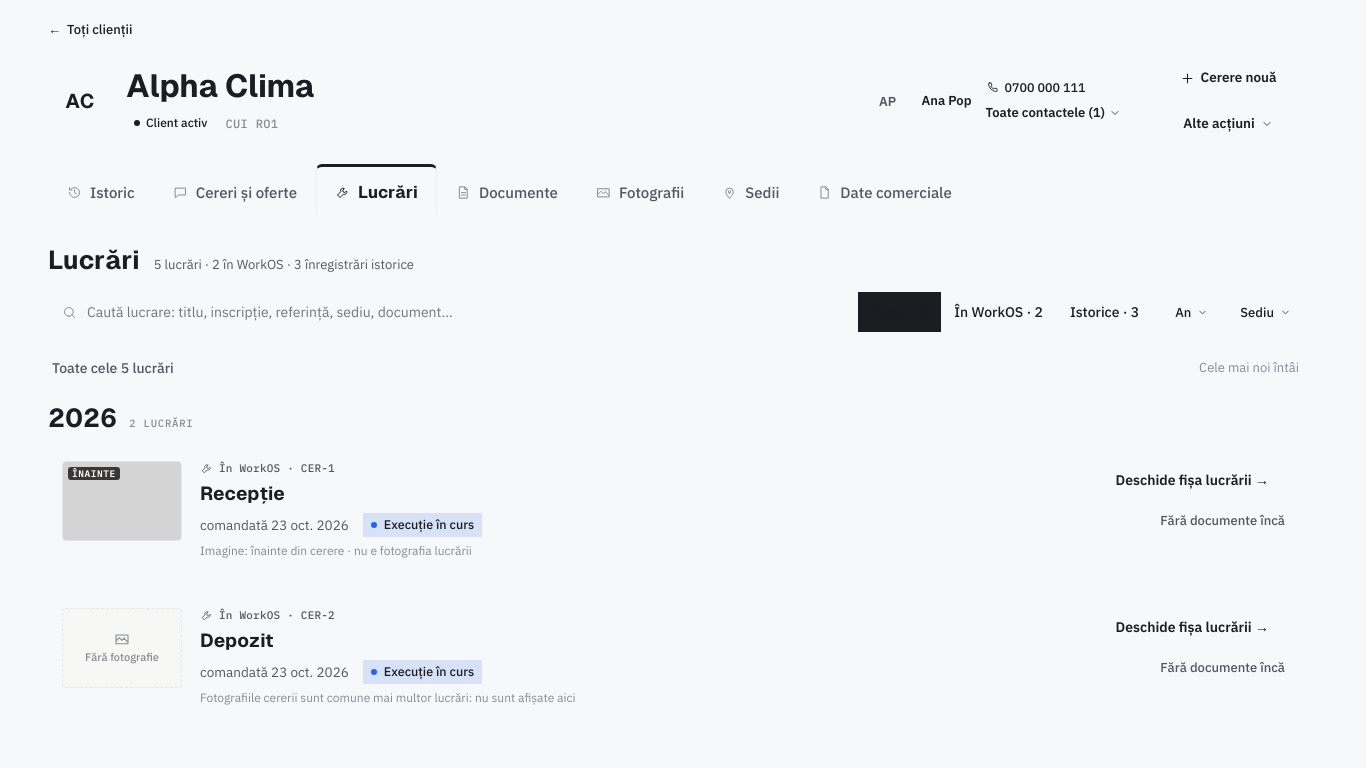
Scenario: Lucrări · request photo as context, server counts › shows the request photo marked as such, or a precise note when the request has several works
Expected: the text "Imagine: înainte din cerere · nu e fotografia lucrării" is shown, [200,543,472,558]
Expected: the text "Fotografiile cererii sunt comune mai multor lucrări: nu sunt afișate aici" is shown, [200,690,576,705]
The An and Sediu counts are the server's.
Click the button "An" at [1192, 312], box [1163,296,1220,328]
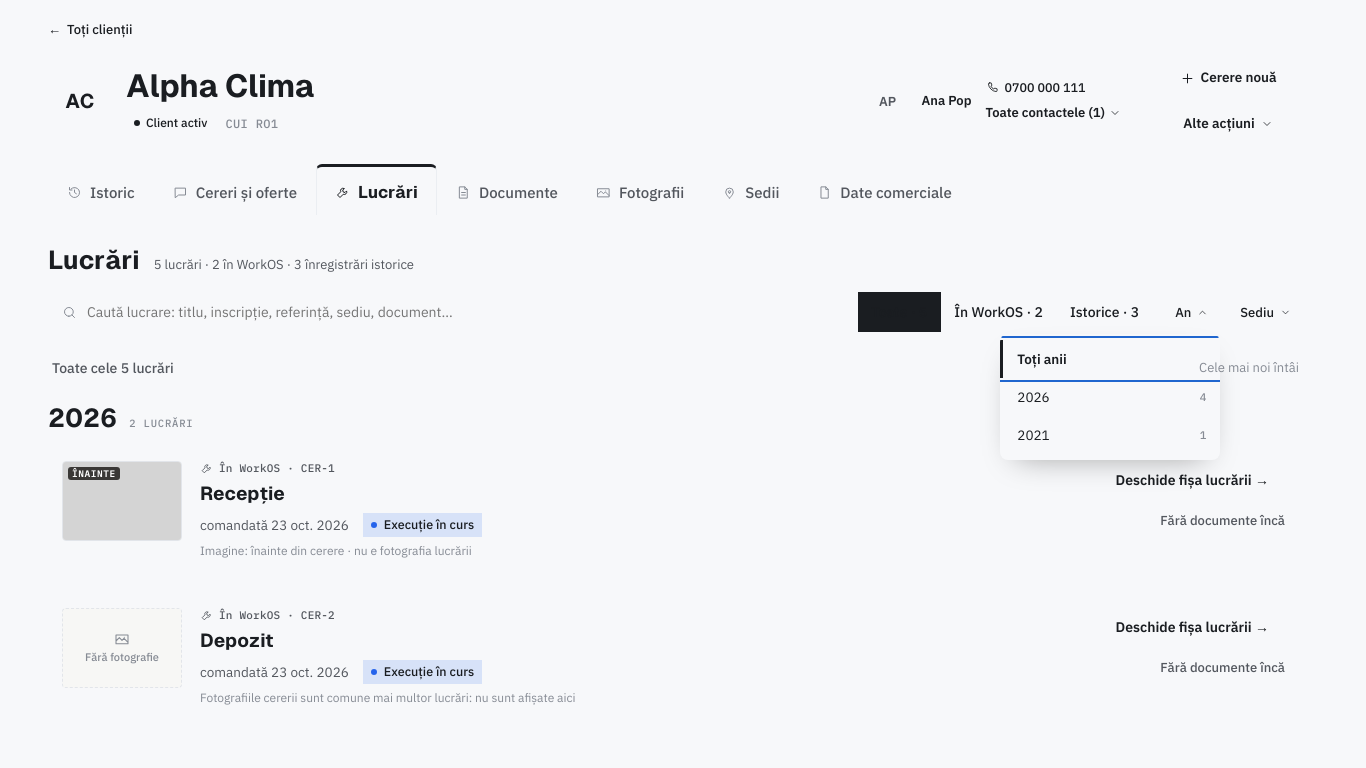
Expected: the buttons read "Toți anii", "20264", "20211", in this order, [1000,340,1220,378]; [1000,378,1220,416]; [1000,416,1220,454]
Click the button "Sediu" at [1266, 312], box [1228,296,1303,328]
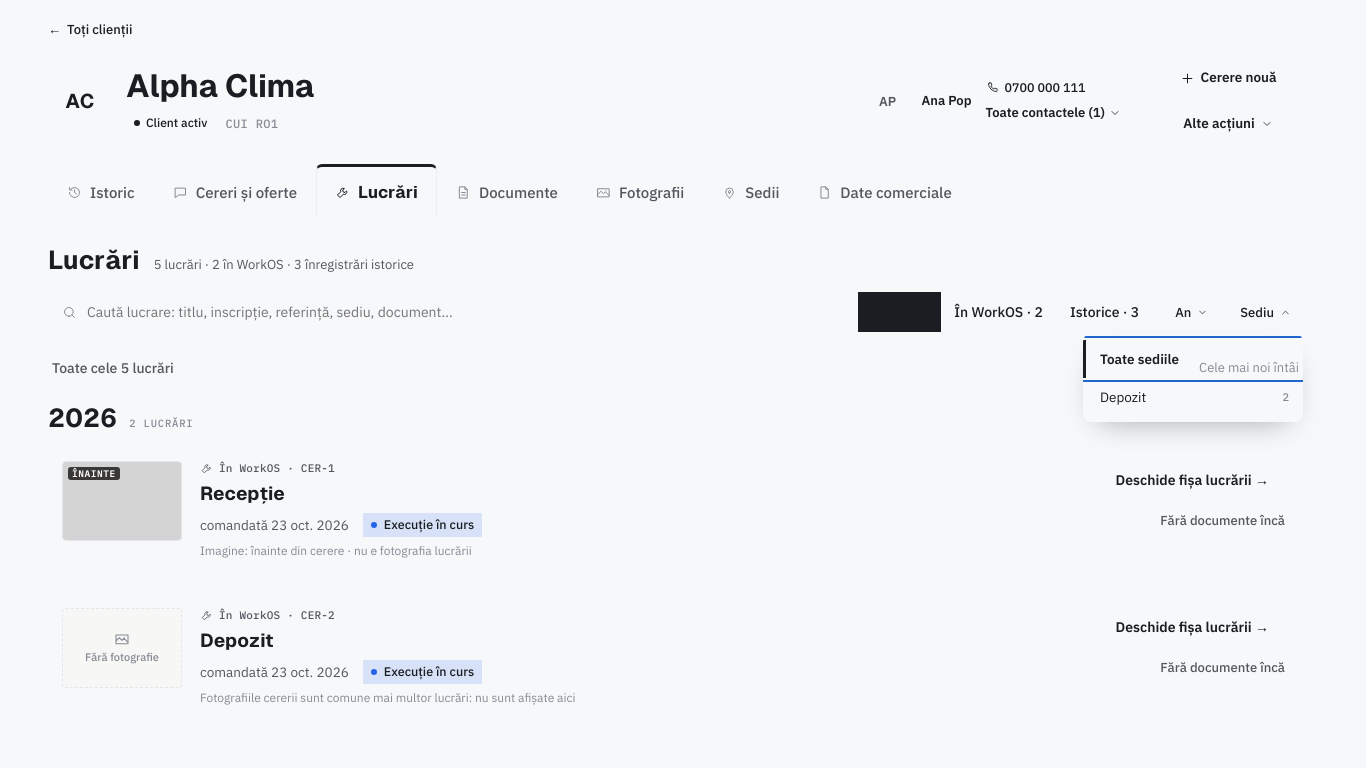
Expected: the buttons read "Toate sediile", "Depozit2", in this order, [1083,340,1303,378]; [1083,378,1303,416]
